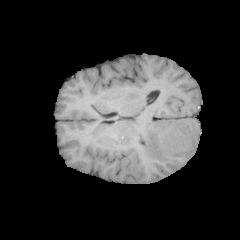glioma: (138, 120, 196, 163)
